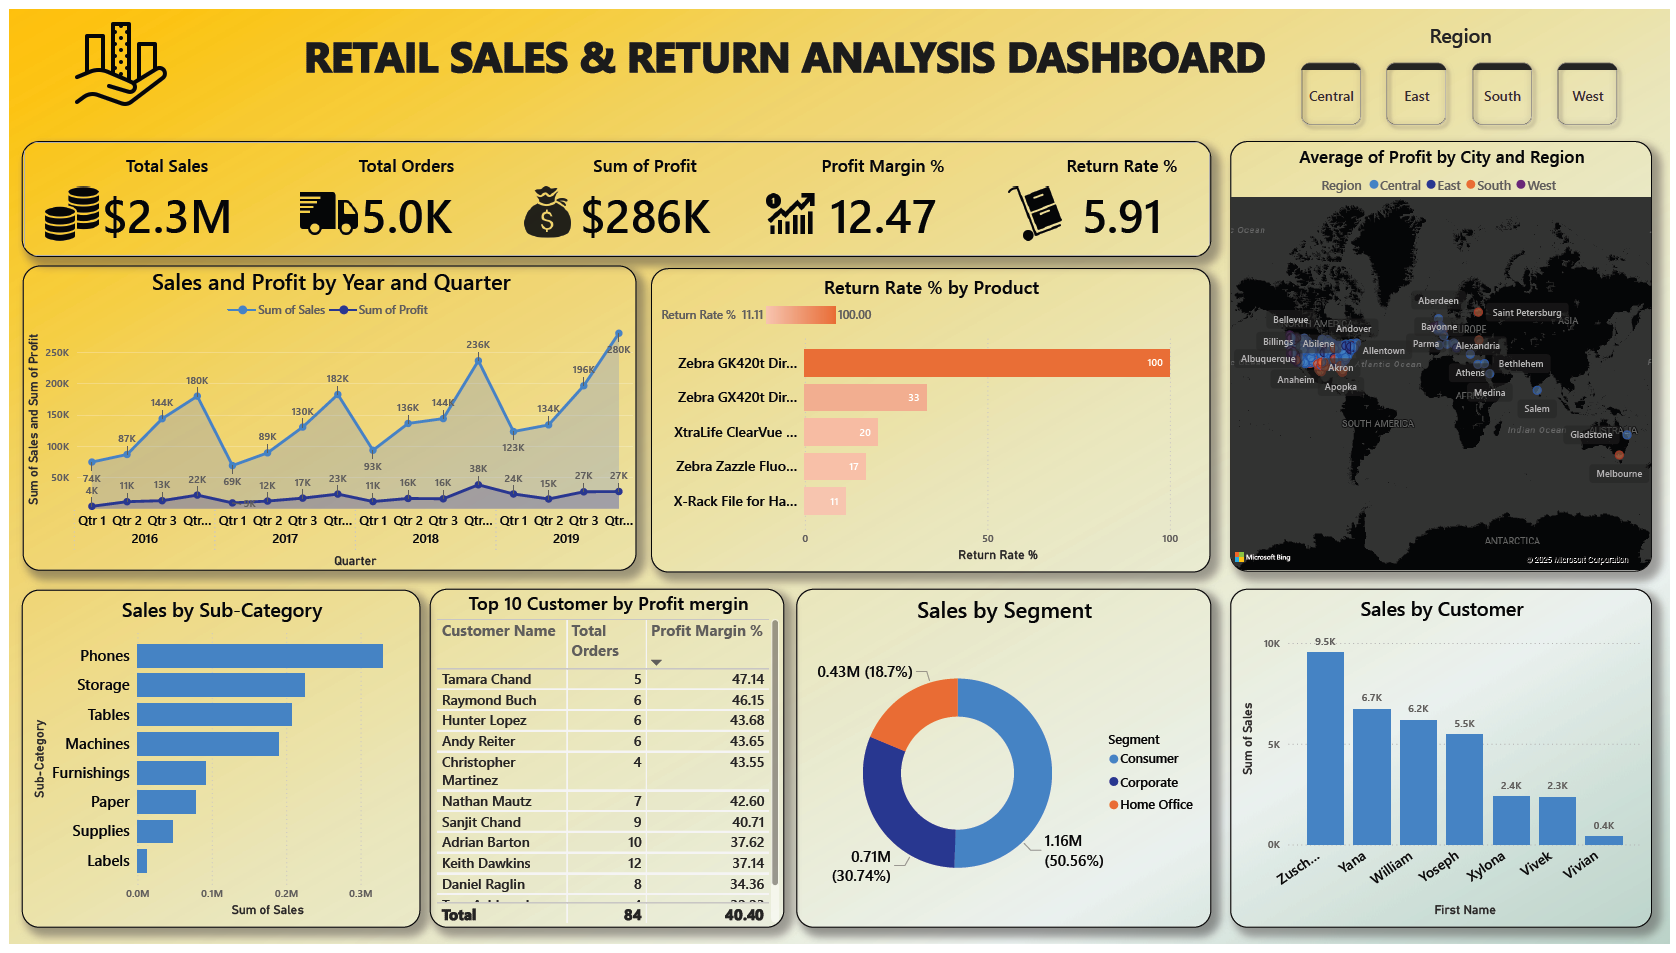

This screenshot's page, from the dashboard's own definition file:
{"tool":"powerbi","page":{"name":"Page 1","canvas":[1920,1080],"ordinal":0},"visuals":[{"type":"cardVisual","title":"Sales Over","fields":{"Data":["Orders.Total Sales","Orders.Total Orders","Orders.Profit","Orders.Profit Margin %","Orders.Return Rate %"]},"box":[14,152,1376,134],"z":0},{"type":"textbox","box":[268.3,15,1256.7,78.3],"z":1000},{"type":"lineChart","title":" Sales and Profit by Year and Quarter","fields":{"Category":["Orders.Order Date.Variation.Date Hierarchy.Year","Orders.Order Date.Variation.Date Hierarchy.Quarter"],"Y":["Orders.Sales","Orders.Profit"]},"box":[15.1,296.5,709.8,352.8],"z":2000},{"type":"clusteredBarChart","title":" Sales by Sub-Category","fields":{"Category":["Orders.Sub-Category","Orders.Ship Mode"],"Y":["Orders.Sales"]},"box":[14.4,670.6,460.2,391.9],"z":3000},{"type":"donutChart","title":" Sales by Segment","fields":{"Y":["Orders.Sales"],"Category":["Orders.Segment"]},"box":[910,670,480,392],"z":4000},{"type":"clusteredBarChart","title":"Return Rate % by Product","fields":{"Y":["Orders.Return Rate %"],"Category":["Orders.Product Name"]},"box":[742.3,298.7,647.1,352.8],"z":5000},{"type":"clusteredColumnChart","title":" Sales by Customer","fields":{"Category":["Orders.First Name"],"Y":["Orders.Sales"]},"box":[1412,670,488,392],"z":6000},{"type":"tableEx","title":"Top 10 Customer by Profit mergin  ","fields":{"Values":["Orders.Customer Name","Orders.Total Orders","Orders.Profit Margin %"]},"box":[486,670,410,392],"z":7000},{"type":"map","title":"Average of Profit by City and Region","fields":{"Category":["Orders.City"],"Series":["Orders.region1"],"Y":["Orders.Profit"]},"box":[1411.7,151.7,488.3,498.3],"z":8000},{"type":"advancedSlicerVisual","fields":{"Values":["People.Region"]},"box":[1456.7,15,443.3,136.7],"z":8001},{"type":"image","box":[13.3,0,230,125],"z":8002}]}

Visuals, with their boxes in screenshot pixels (x1, y1, x2, y2), scaled from the page's 1920x1080 canvas onto the 1676x953 screenshot:
"Sales Over" cardVisual: <box>12,134,1213,252</box>
textbox: <box>234,13,1331,82</box>
" Sales and Profit by Year and Quarter" lineChart: <box>13,262,633,573</box>
" Sales by Sub-Category" clusteredBarChart: <box>13,592,414,938</box>
" Sales by Segment" donutChart: <box>794,591,1213,937</box>
"Return Rate % by Product" clusteredBarChart: <box>648,264,1213,575</box>
" Sales by Customer" clusteredColumnChart: <box>1233,591,1659,937</box>
"Top 10 Customer by Profit mergin  " tableEx: <box>424,591,782,937</box>
"Average of Profit by City and Region" map: <box>1232,134,1659,574</box>
advancedSlicerVisual - People.Region: <box>1272,13,1659,134</box>
image: <box>12,0,212,110</box>
